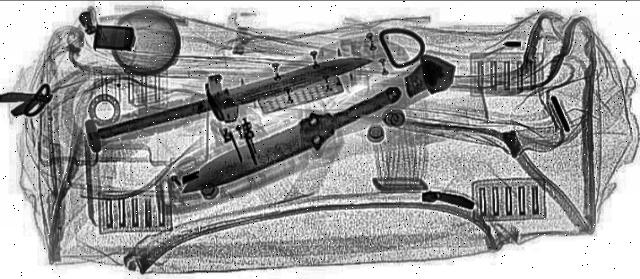Knife: (48, 42, 404, 163), (153, 78, 437, 206)
